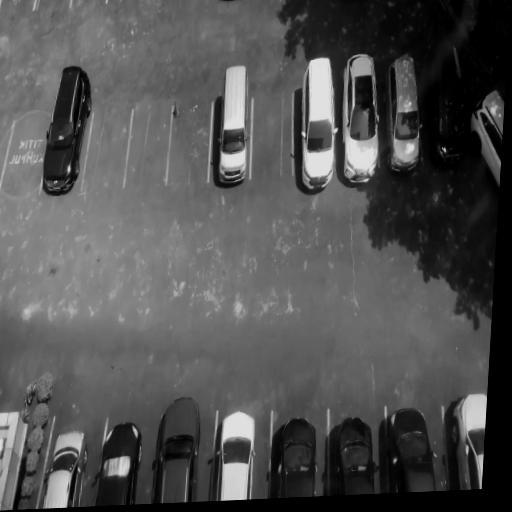Car: (291, 54, 342, 192), (41, 65, 93, 197), (338, 49, 388, 185), (208, 59, 255, 197), (146, 390, 202, 500), (427, 33, 475, 158), (89, 406, 146, 507), (31, 412, 90, 509), (384, 45, 426, 175), (380, 400, 437, 493), (463, 80, 505, 198), (206, 405, 258, 499), (265, 411, 318, 499), (441, 393, 487, 489), (327, 403, 372, 496), (218, 0, 246, 11)
Space Available: (247, 89, 295, 192), (0, 101, 47, 204), (166, 93, 214, 192), (127, 102, 174, 197), (85, 100, 130, 196), (177, 0, 214, 23), (35, 0, 70, 22), (106, 0, 143, 19), (141, 0, 178, 17), (67, 0, 106, 16)
